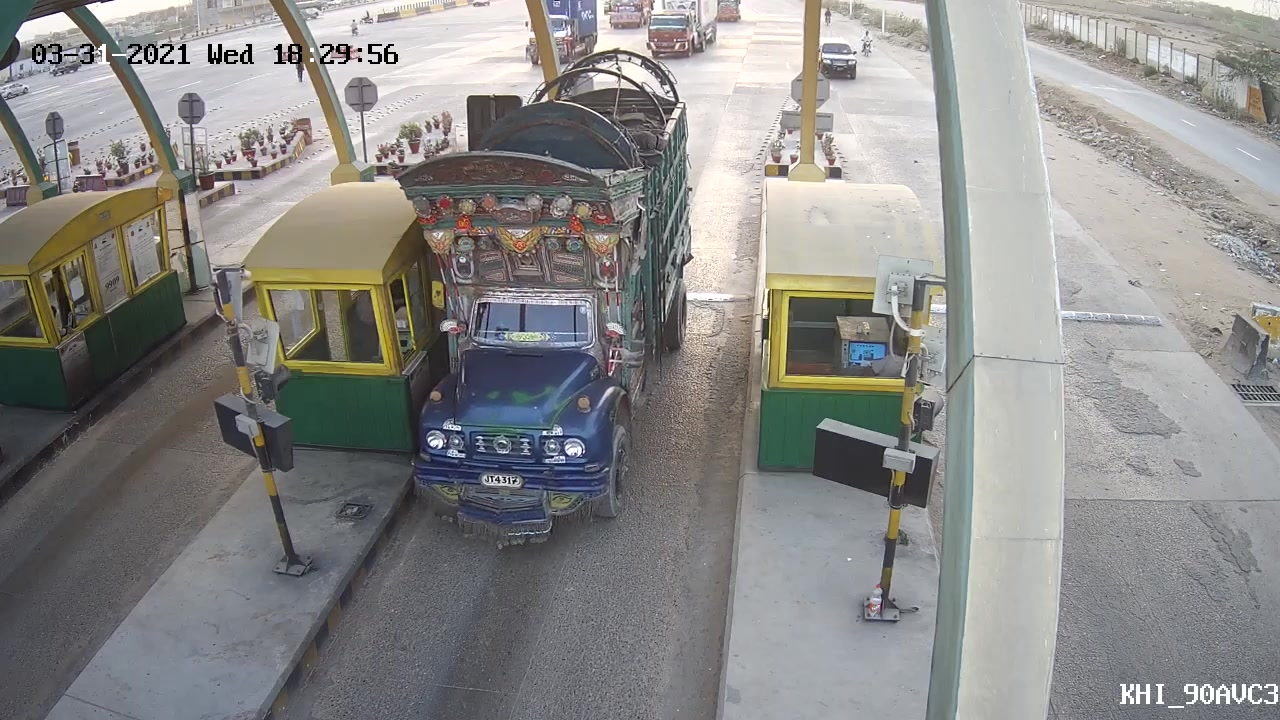F5: (400, 52, 698, 546)
